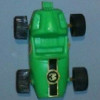verde: (15, 3, 86, 97)
